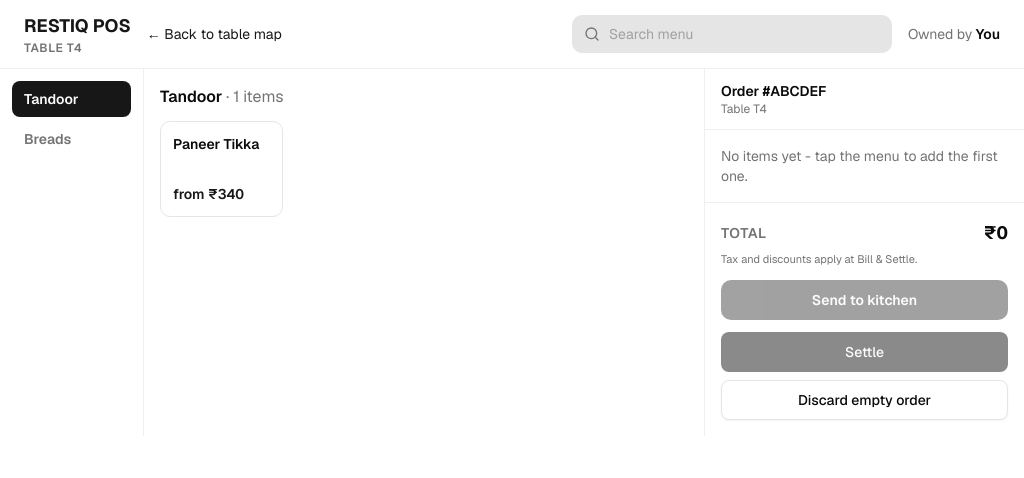
OrderTakingView › tapping the same plain item again increments its existing line instead of adding a duplicate (regression for #63)
Click the button with test id "category-tab-cat-breads": (72, 139) [12,121,131,157]
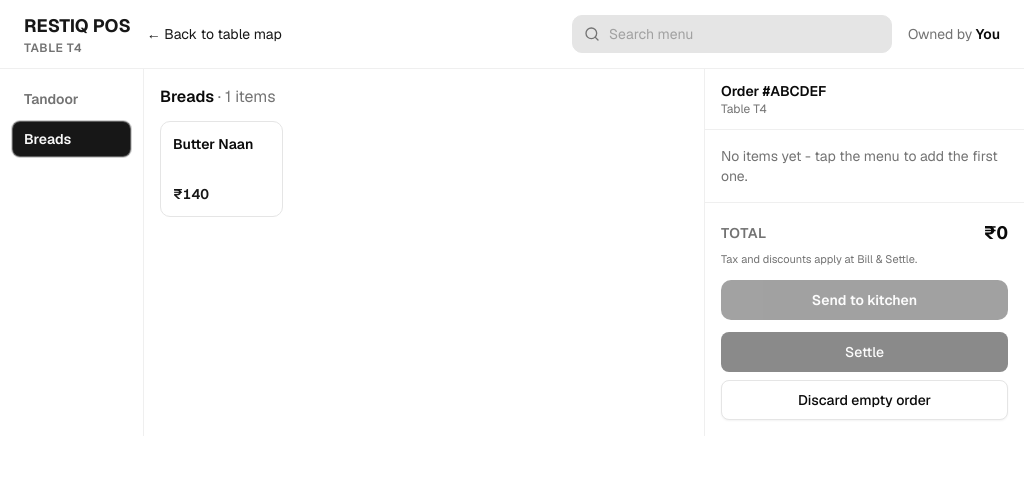
Click the button with test id "item-tile-item-naan": (222, 169) [160,121,283,217]
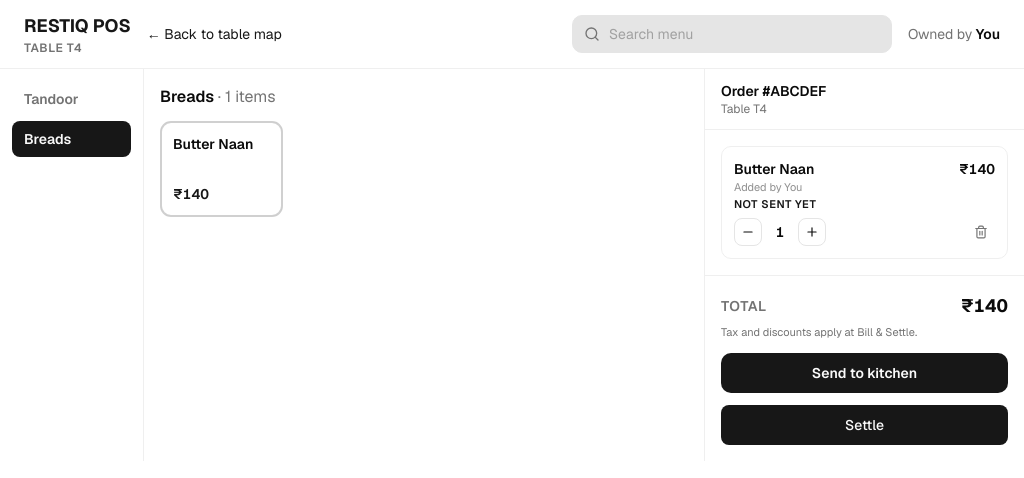
Now the element with test id "order-line-line-1" is shown, box [721,146,1008,259]
Click the button with test id "item-tile-item-naan": (222, 169) [160,121,283,217]
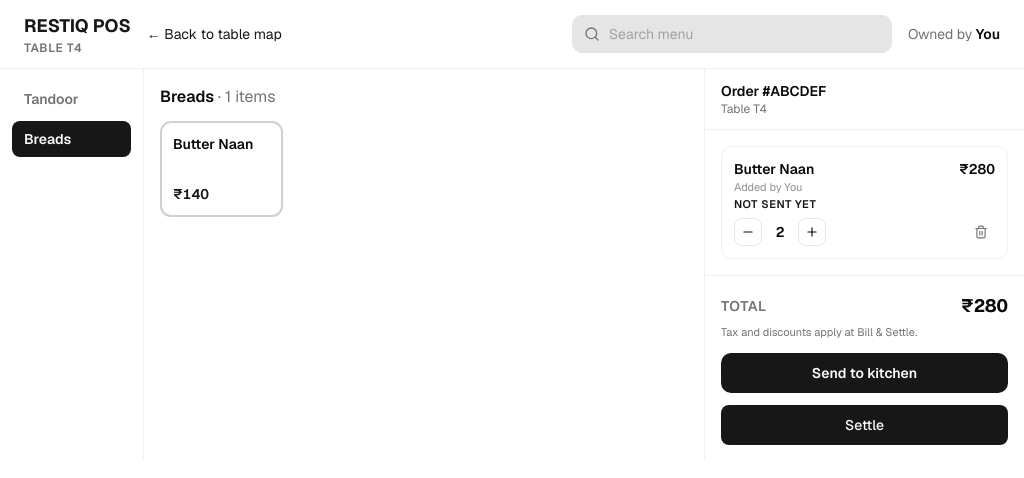
Now the text with test id "order-line-qty-line-1" reads "2", box [776,223,784,241]
